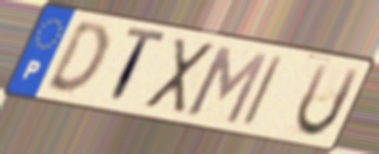D: (42, 21, 112, 100)
I: (238, 52, 287, 130)
M: (184, 42, 272, 128)
T: (107, 24, 170, 110)
U: (293, 60, 364, 140)
X: (141, 36, 218, 117)
